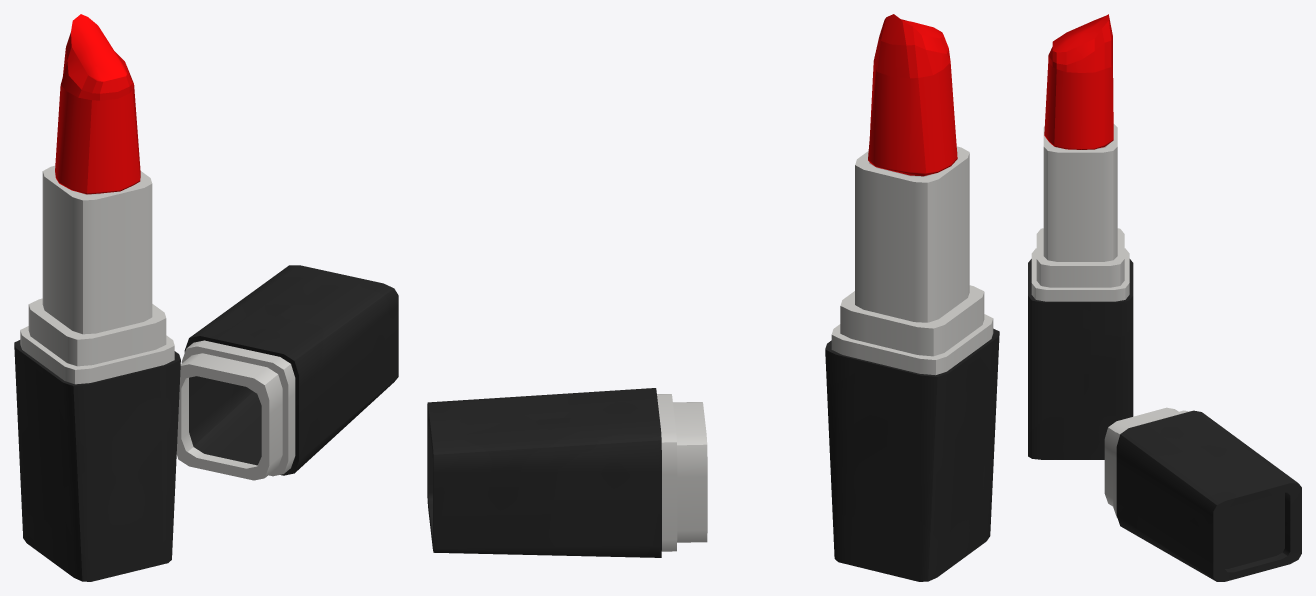
The model's file is lipstick_lp.fbx.
3 views of the same model, side by side, from view 1: azimuth 30°, elevation 25°; view 2: azimuth 150°, elevation 25°; view 3: azimuth 270°, elevation 25° (orthographic). The views are drawn at different scales.
Visible parts, largest first — view 1: body_lipstick_lp, top_lipstick_lp; view 2: body_lipstick_lp, top_lipstick_lp; view 3: body_lipstick_lp, top_lipstick_lp.
Boxes of the visible parts, x1,y1,x2,y2 form: body_lipstick_lp: (14, 14, 180, 581); top_lipstick_lp: (176, 265, 398, 480); body_lipstick_lp: (825, 14, 999, 581); top_lipstick_lp: (427, 388, 707, 557); body_lipstick_lp: (1028, 14, 1133, 459); top_lipstick_lp: (1104, 407, 1301, 581).
Size of the model in its own units: 6.95 by 7.88 by 4.57.
Materials: 4 (3 with a texture image).
